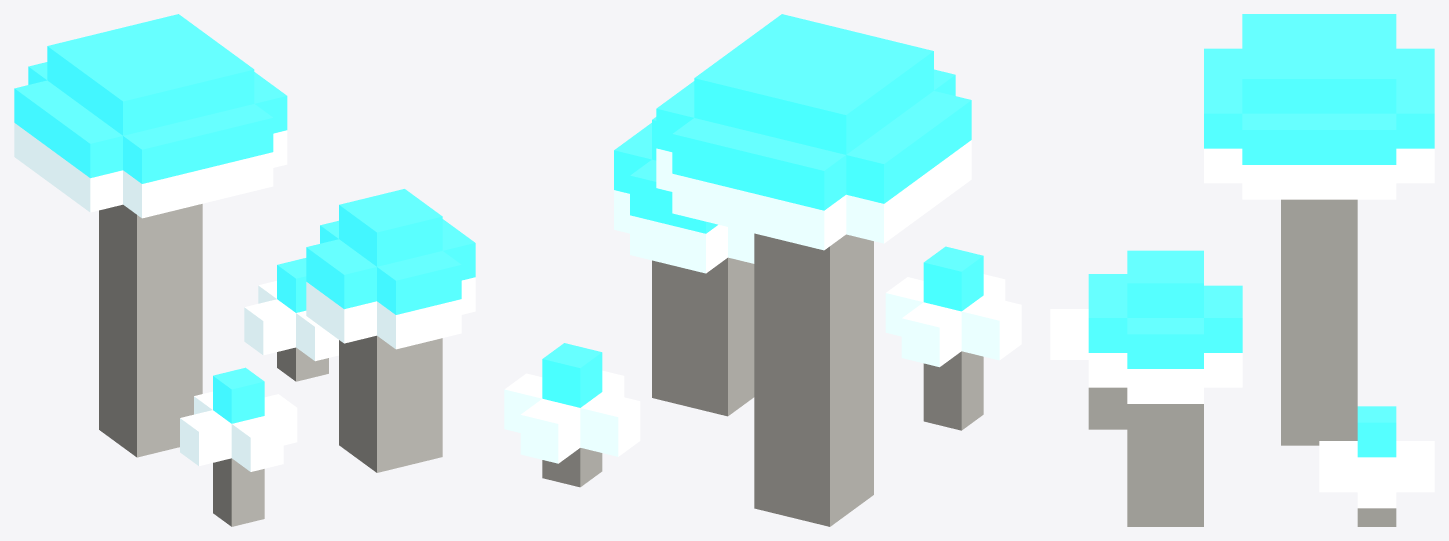
Rendered from Lobby_GlowMushroom.glb.
3 renders of one model, left to right at view 1: azimuth 30°, elevation 25°; view 2: azimuth 150°, elevation 25°; view 3: azimuth 270°, elevation 25°, orthographic. The views are drawn at different scales.
Visible parts, largest first — view 1: GlowMushroom_capCyan, GlowMushroom_stem, GlowMushroom_capRim; view 2: GlowMushroom_capCyan, GlowMushroom_stem, GlowMushroom_capRim; view 3: GlowMushroom_capCyan, GlowMushroom_stem, GlowMushroom_capRim.
Part boxes in pixels (x1=…): GlowMushroom_capCyan: x1=14, y1=14, x2=475, y2=423; GlowMushroom_stem: x1=99, y1=204, x2=442, y2=526; GlowMushroom_capRim: x1=14, y1=123, x2=475, y2=471; GlowMushroom_capCyan: x1=542, y1=14, x2=983, y2=407; GlowMushroom_stem: x1=542, y1=233, x2=983, y2=526; GlowMushroom_capRim: x1=504, y1=140, x2=1021, y2=463; GlowMushroom_capCyan: x1=1088, y1=14, x2=1434, y2=457; GlowMushroom_stem: x1=1088, y1=199, x2=1396, y2=526; GlowMushroom_capRim: x1=1050, y1=148, x2=1434, y2=508.
Bounding box in the file's own units: 0.5 × 0.55 × 0.5.
